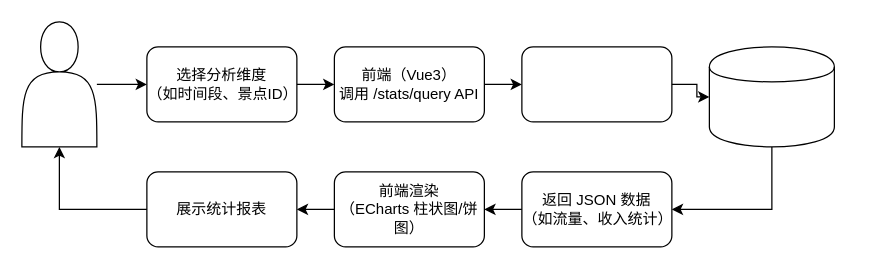
The diagram is 876 pixels wide and 269 high, and some of its shapes have lost their labels. Here are the shapes that lost their labels. From the top down, the centre of each, then its label:
At (x=59, y=84): "管理员".
At (x=596, y=84): "后端（Express） 聚合查询 orders、feedback 等表".
At (x=771, y=96): "数据库 （PostgreSQL/MySQL）".
